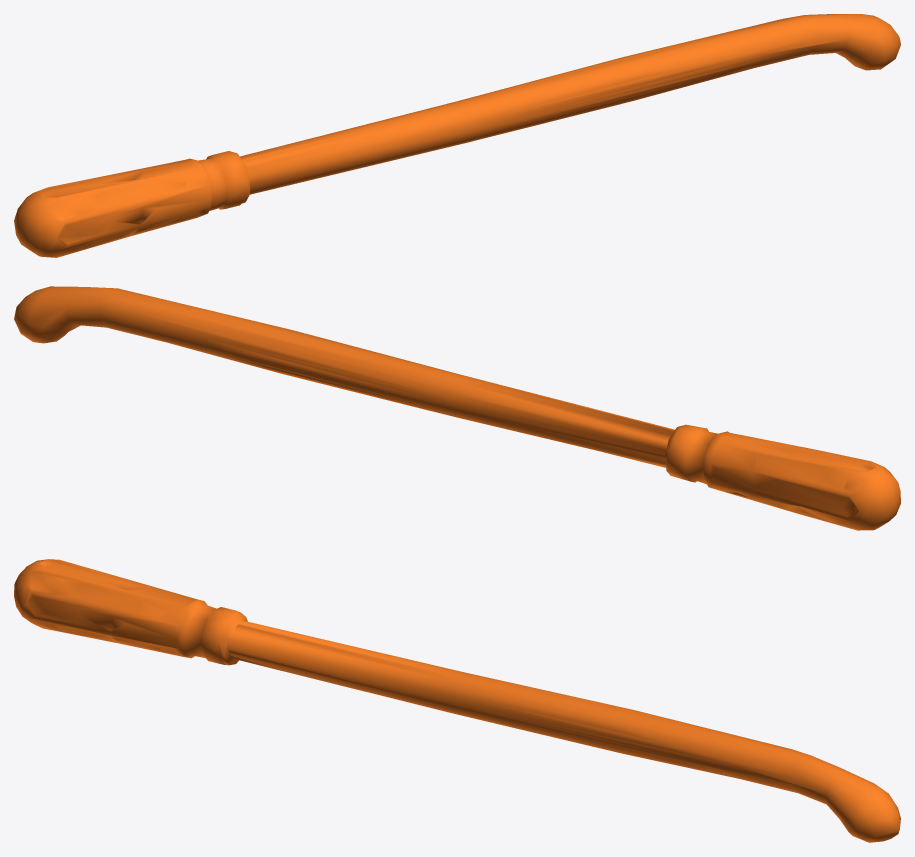
Rendered from saracen_mace_v1.fbx.
3 renders of one model, top to bottom at view 1: azimuth 30°, elevation 25°; view 2: azimuth 150°, elevation 25°; view 3: azimuth 330°, elevation 25°, orthographic.
Visible parts, largest first — view 1: saracen_mace_v1; view 2: saracen_mace_v1; view 3: saracen_mace_v1.
Boxes of the visible parts, x1,y1,x2,y2 form: saracen_mace_v1: [14, 14, 900, 257]; saracen_mace_v1: [14, 286, 900, 530]; saracen_mace_v1: [14, 559, 900, 842].
Bounding box in the file's own units: 61.69 × 5.06 × 4.13.
